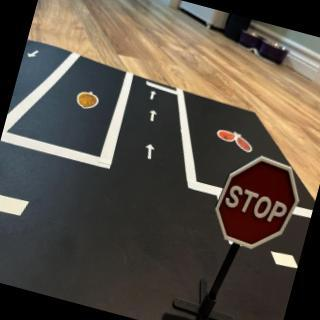road_oneway: (141, 142, 159, 167), (26, 46, 43, 63), (146, 108, 159, 126), (147, 90, 158, 104)
sign_stop: (210, 149, 308, 256)
